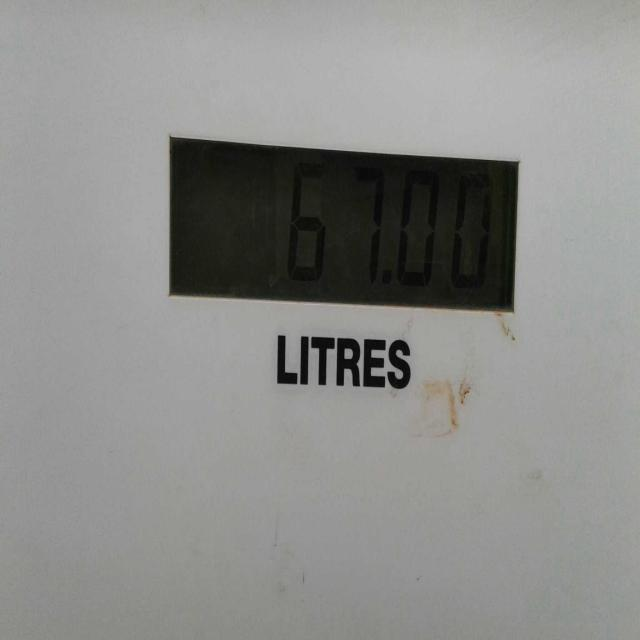.: (380, 254, 396, 301)
0: (444, 162, 493, 306), (393, 166, 443, 290)
6: (276, 160, 331, 301)
7: (342, 157, 390, 291)
